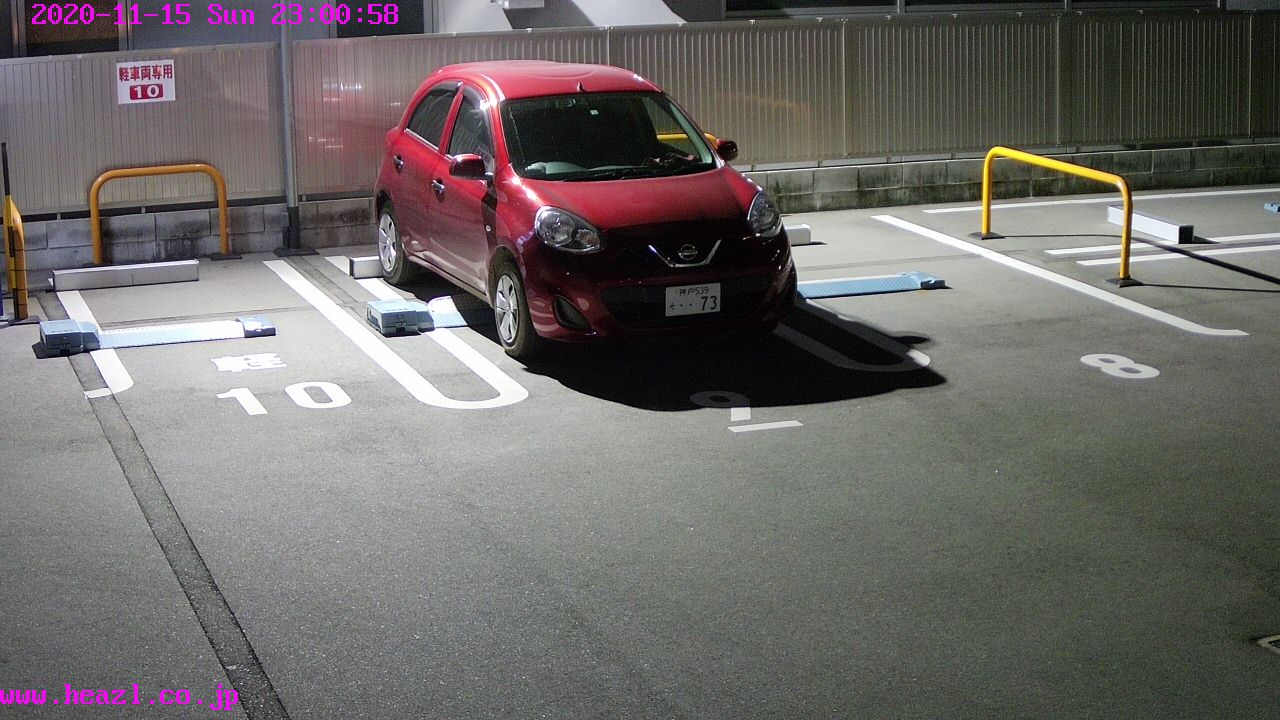number_plate: (665, 284, 722, 315)
